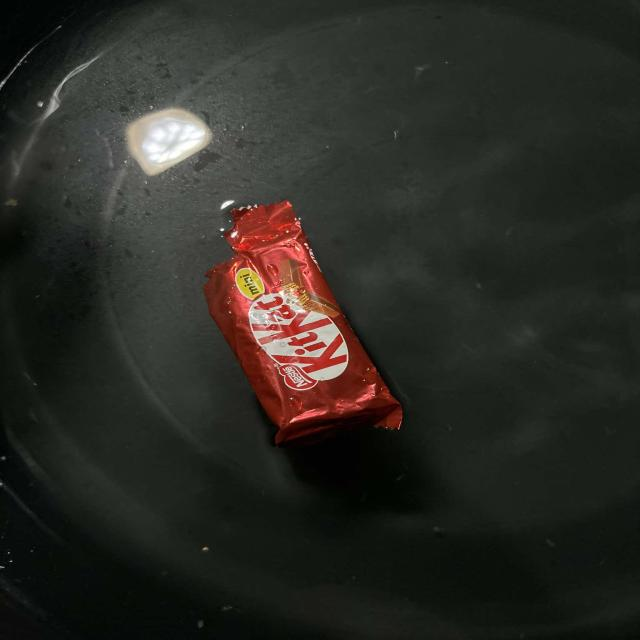Plastic Wrapper: (175, 186, 429, 464)
